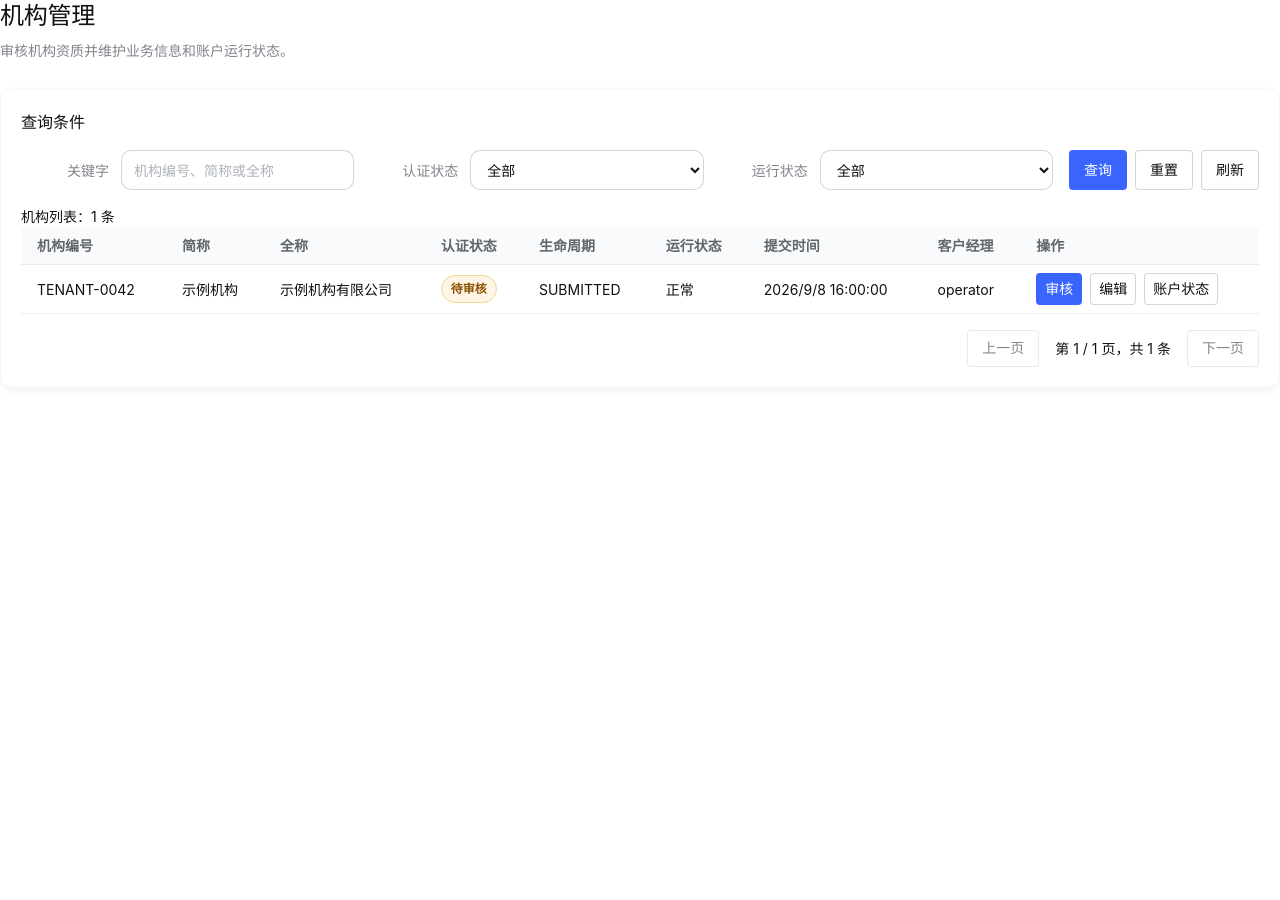
it: Phase 08 tenant qualification production UI › renders returned qualification and conflicting OCR facts before human confirmation
Expected: the row with test id "admin-tenant-qualification-tenants-row" is shown, [21,264,1259,314]
Step 1. Click the button with test id "admin-tenant-qualification-tenants-review-open" → (1059, 289), box [1036,273,1082,305]
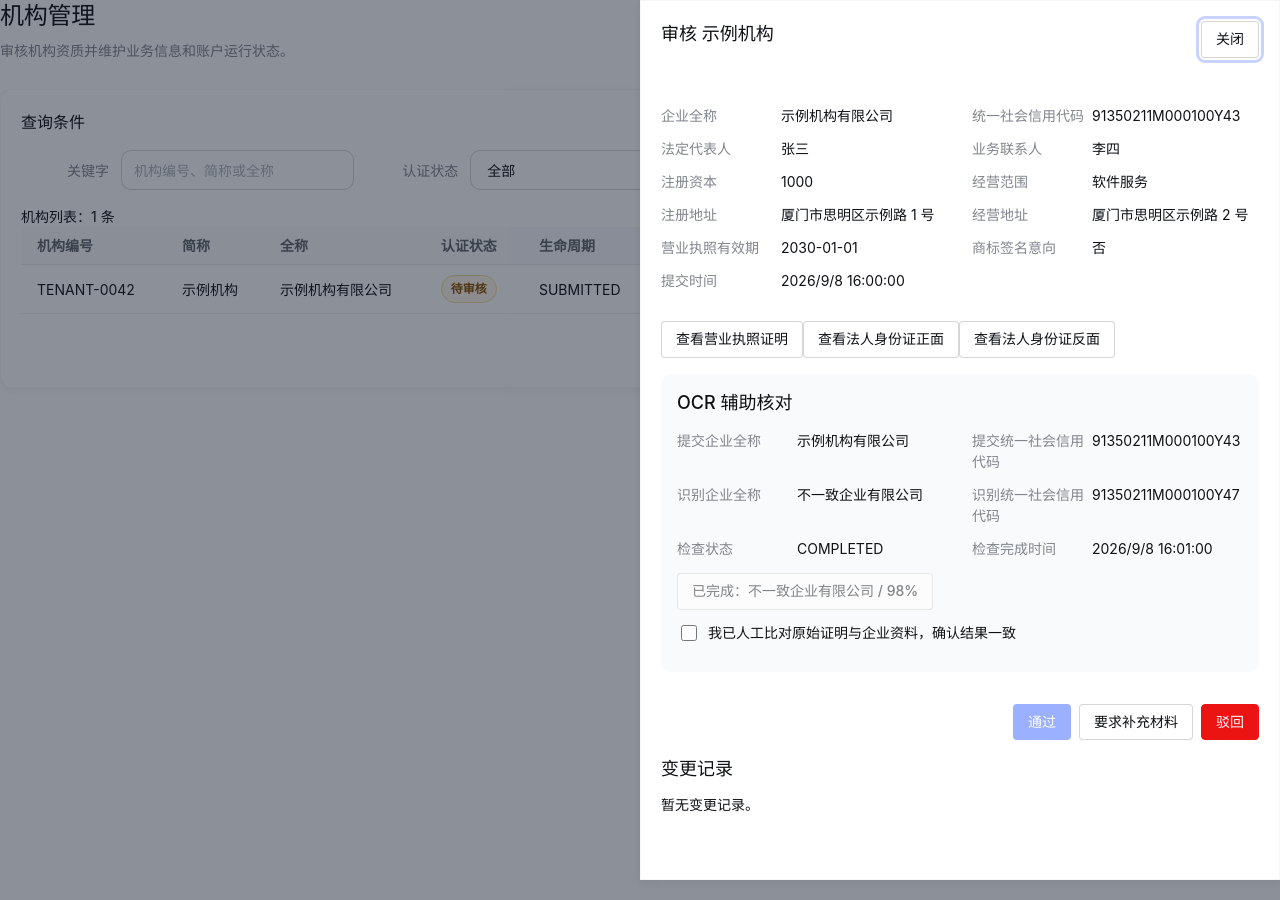
Result: the element with test id "admin-tenant-qualification-tenants-review-drawer" shows "注册资本" at [661,173,717,190]
Result: the element with test id "admin-tenant-qualification-tenants-review-drawer" shows "1000" at [781,173,813,190]
Result: the element with test id "admin-tenant-qualification-tenants-review-drawer" shows "经营范围" at [972,173,1028,190]
